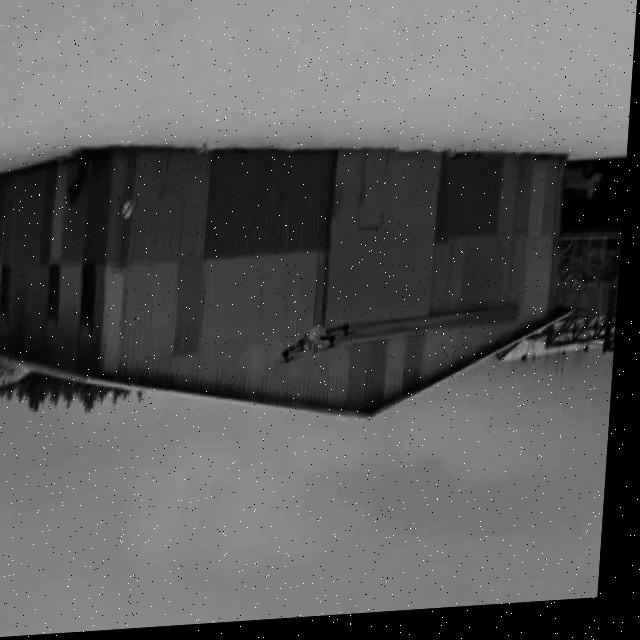drone: (284, 321, 356, 373)
